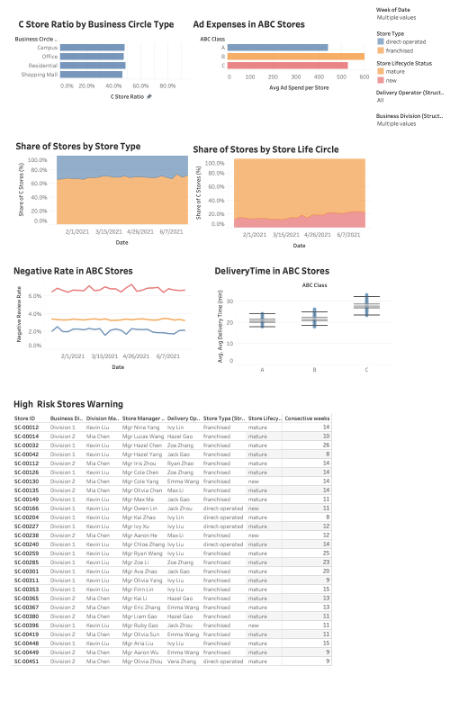

Layout of this report page (visuals, bound fields, positions):
{"tool":"tableau","page":{"name":"Dashboard 2","canvas":[1000,1600],"ordinal":1},"visuals":[{"type":"filter","title":" C Store Ratio by Business Circle Type","param":"[federated.0j3vi671o3qn7a1a3c1ob12r8ew7].[wk:Date:ok]","box":[832,8,160,52]},{"type":"worksheet","title":" C Store Ratio by Business Circle Type","mark":"Bar","rows":["Business Circle Type"],"cols":["Calculation_62135638809915397"],"box":[33,33,400,250]},{"type":"worksheet","title":"Ad Expenses in ABC Stores","mark":"Bar","rows":["Calculation_62135638808477696"],"cols":["Calculation_62135638904803374"],"box":[425,33,400,250]},{"type":"legend","title":"Share of Stores by Store Type","param":"[federated.0j3vi671o3qn7a1a3c1ob12r8ew7].[none:Store Type:nk]","box":[832,60,160,66]},{"type":"legend","title":"Share of Stores by Store Life Circle ","param":"[federated.0j3vi671o3qn7a1a3c1ob12r8ew7].[none:Store Lifecycle Status:nk]","box":[832,126,160,66]},{"type":"filter","title":"High  Risk Stores Warning","param":"[federated.0j3vi671o3qn7a1a3c1ob12r8ew7].[none:Delivery Operator (Structural!C!S","box":[832,192,160,52]},{"type":"filter","title":"High  Risk Stores Warning","param":"[federated.0j3vi671o3qn7a1a3c1ob12r8ew7].[none:Business Division (Structural!C!S","box":[832,244,160,52]},{"type":"worksheet","title":"Share of Stores by Store Type","mark":"Automatic","cols":["Date"],"box":[31,304,400,250]},{"type":"worksheet","title":"Share of Stores by Store Life Circle ","mark":"Automatic","cols":["Date"],"box":[425,311,400,250]},{"type":"worksheet","title":"Negative Rate in ABC Stores","mark":"Automatic","rows":["Calculation_62135638808793090"],"cols":["Date"],"box":[26,581,400,250]},{"type":"worksheet","title":"DeliveryTime in ABC Stores","mark":"Circle","rows":["Avg Delivery Time (min)"],"cols":["Calculation_62135638808477696"],"box":[473,581,400,250]},{"type":"worksheet","title":"High  Risk Stores Warning","mark":"Automatic","rows":["Store ID","Business Division (Structural!C!Stores!8W)","Division Manager (Structural!C!Stores!8W)","Store Manager (Structural!C!Stores!8W)","Delivery Operator (Structural!C!Stores!8W)","Store Type (Structural!C!Stores!8W)","Store Lifecycle Status (Structural!C!Stores!8W)"],"box":[26,877,786,684]}]}

Visuals, with their boxes in screenshot pixels (x1, y1, x2, y2), scaled from the page's 1000x1600 canvas onto the 450x720 screenshot:
" C Store Ratio by Business Circle Type" filter: {"x1": 374, "y1": 4, "x2": 446, "y2": 27}
" C Store Ratio by Business Circle Type" worksheet (Bar marks): {"x1": 15, "y1": 15, "x2": 195, "y2": 127}
"Ad Expenses in ABC Stores" worksheet (Bar marks): {"x1": 191, "y1": 15, "x2": 371, "y2": 127}
"Share of Stores by Store Type" legend: {"x1": 374, "y1": 27, "x2": 446, "y2": 57}
"Share of Stores by Store Life Circle " legend: {"x1": 374, "y1": 57, "x2": 446, "y2": 86}
"High  Risk Stores Warning" filter: {"x1": 374, "y1": 86, "x2": 446, "y2": 110}
"High  Risk Stores Warning" filter: {"x1": 374, "y1": 110, "x2": 446, "y2": 133}
"Share of Stores by Store Type" worksheet: {"x1": 14, "y1": 137, "x2": 194, "y2": 249}
"Share of Stores by Store Life Circle " worksheet: {"x1": 191, "y1": 140, "x2": 371, "y2": 252}
"Negative Rate in ABC Stores" worksheet: {"x1": 12, "y1": 261, "x2": 192, "y2": 374}
"DeliveryTime in ABC Stores" worksheet (Circle marks): {"x1": 213, "y1": 261, "x2": 393, "y2": 374}
"High  Risk Stores Warning" worksheet: {"x1": 12, "y1": 395, "x2": 365, "y2": 702}
